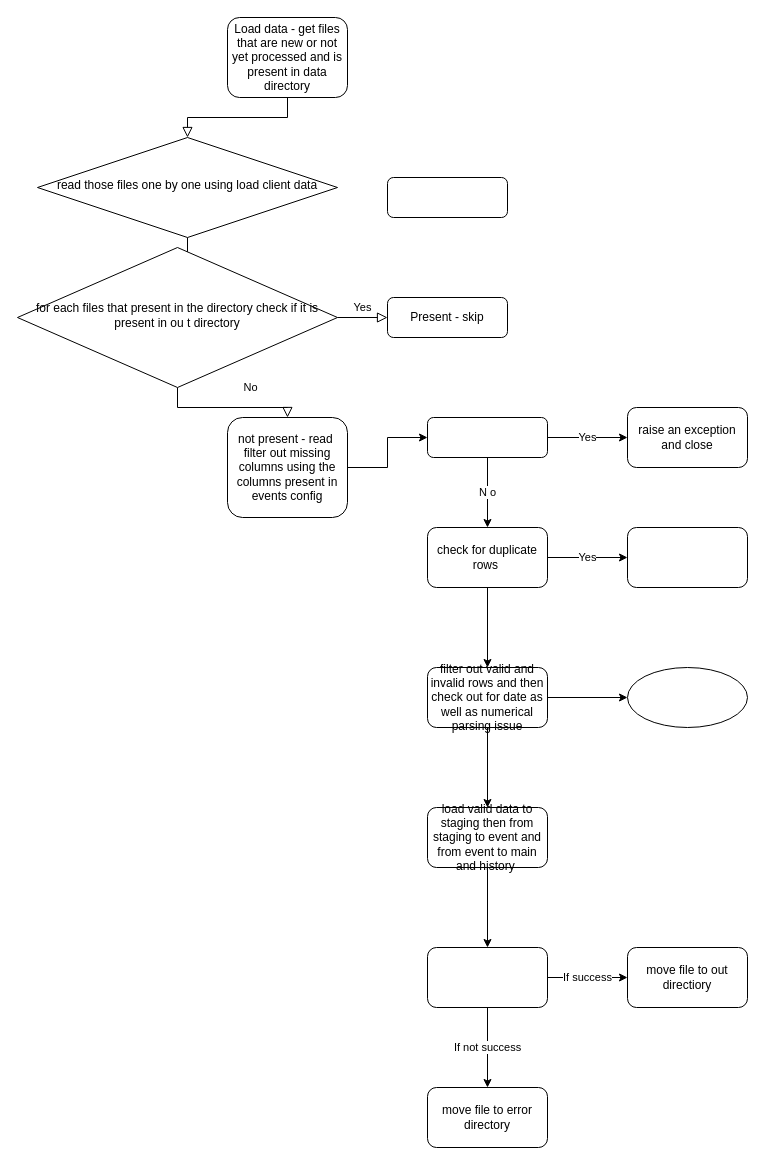
Some shapes in this 765 by 1165 pixel diagram are drawn without their labels. The shapes that lost their labels are listed below. From the top down, each one's box as (x1, y1, x2, y2) in pixels, then its label:
(386, 176, 508, 218): Plug in lamp
(426, 416, 548, 458): if missing columns that are required is missed
(626, 526, 748, 588): remove dupicate rows
(626, 666, 748, 728): load invalid data in a separate table
(426, 946, 548, 1008): publish records into queue
